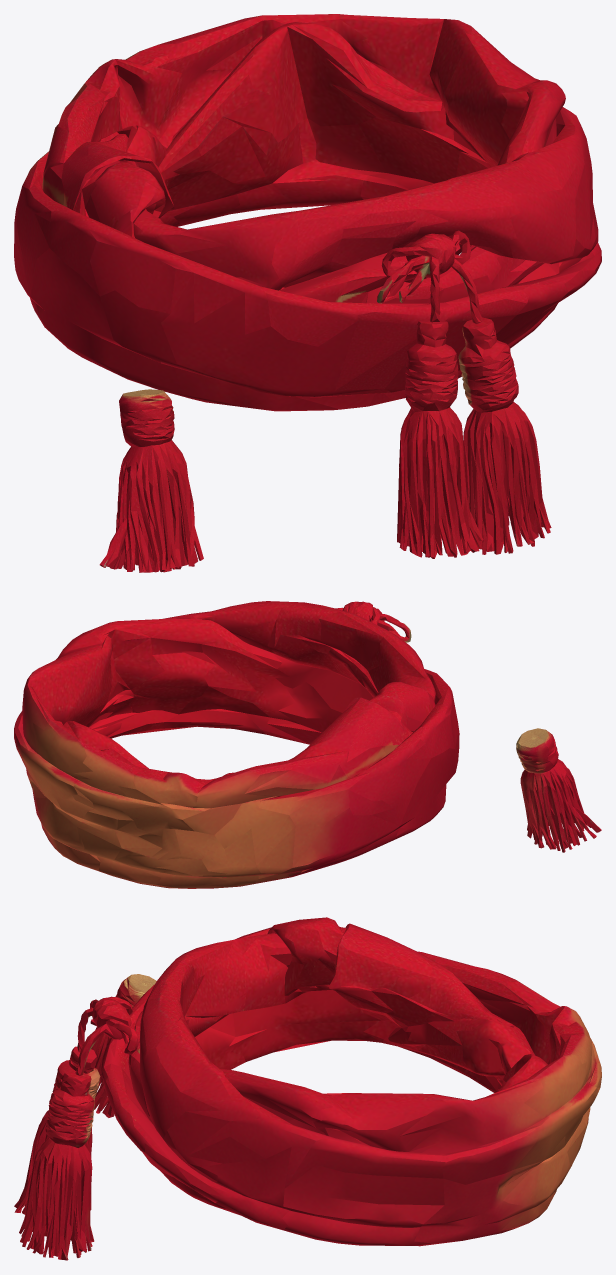
Rendered from ACC_BELT_001.glb.
3 renders of one model, top to bottom at view 1: azimuth 30°, elevation 25°; view 2: azimuth 150°, elevation 25°; view 3: azimuth 270°, elevation 25°, orthographic. The views are drawn at different scales.
Bounding box in the file's own units: 1.84 × 0.8763 × 1.9.
1 material, 1 textured.
